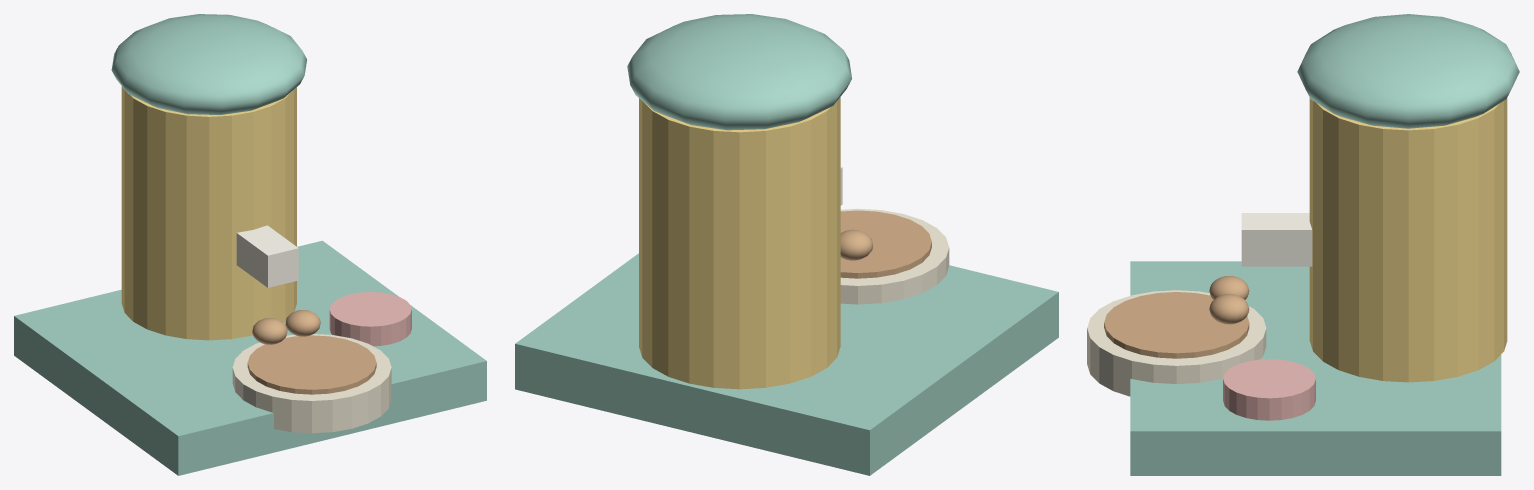
The model's file is treat-dispenser.glb.
3 renders of one model, left to right at view 1: azimuth 30°, elevation 25°; view 2: azimuth 150°, elevation 25°; view 3: azimuth 270°, elevation 25°, orthographic. The views are drawn at different scales.
Parts seen in each view (by area): view 1: round lid, dispenser body, bowl rim, bowl contents, paw button, spout, little treat.001; view 2: round lid, dispenser body, bowl contents, bowl rim, little treat.001; view 3: round lid, dispenser body, bowl contents, bowl rim, paw button, spout, little treat.001.
Part boxes in pixels (<box>): round lid: <box>14,14,486,475</box>; dispenser body: <box>121,86,296,340</box>; bowl rim: <box>232,334,391,433</box>; bowl contents: <box>247,335,376,394</box>; paw button: <box>329,292,411,346</box>; spout: <box>236,225,298,287</box>; little treat.001: <box>252,310,320,344</box>; round lid: <box>515,14,1058,475</box>; dispenser body: <box>639,97,840,389</box>; bowl contents: <box>840,210,931,278</box>; bowl rim: <box>840,208,949,304</box>; little treat.001: <box>840,229,873,260</box>; round lid: <box>1130,14,1519,475</box>; dispenser body: <box>1309,97,1507,382</box>; bowl contents: <box>1104,292,1249,358</box>; bowl rim: <box>1087,290,1266,396</box>; paw button: <box>1223,359,1315,420</box>; spout: <box>1241,213,1312,266</box>; little treat.001: <box>1209,276,1249,324</box>.
Size of the model in its own units: 1.3 by 1.26 by 1.4.
